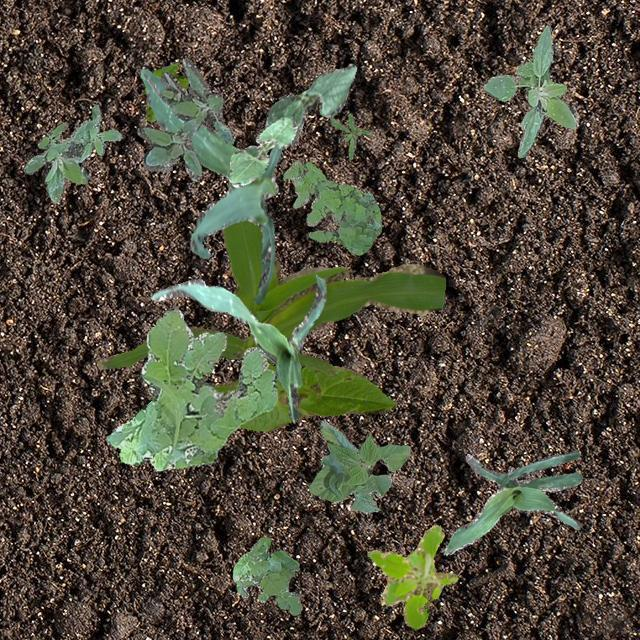crop: (96, 218, 444, 374), (140, 68, 280, 304), (150, 274, 326, 422), (442, 449, 582, 554), (212, 364, 392, 431), (308, 420, 408, 512), (264, 62, 356, 144), (228, 116, 296, 186)
weed: (106, 304, 276, 470), (482, 25, 576, 156), (136, 56, 234, 180), (22, 104, 120, 202), (366, 524, 456, 628), (282, 160, 380, 253), (232, 536, 302, 614), (144, 61, 187, 120), (330, 112, 370, 158)
